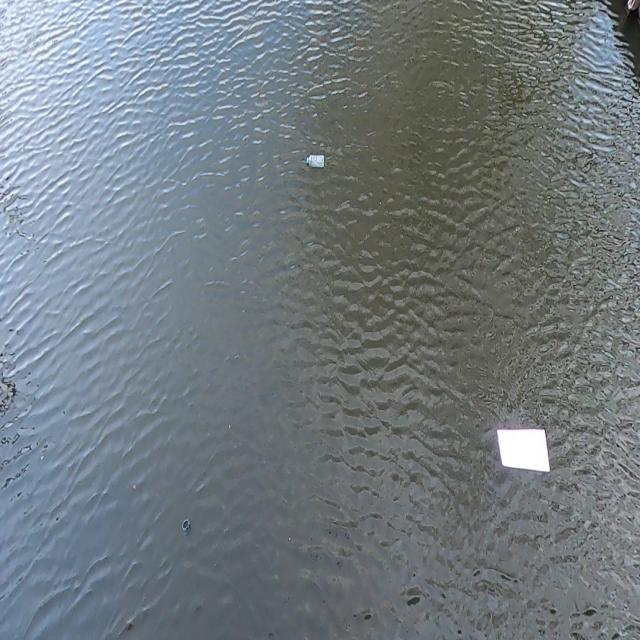Autre plastique: (492, 420, 555, 479)
Bouteille plastique: (302, 149, 327, 175)
